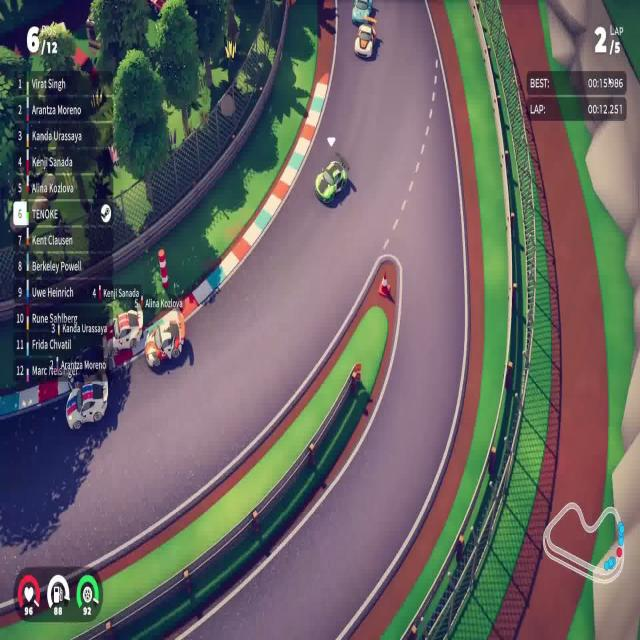car: (100, 300, 144, 363), (64, 370, 109, 431), (144, 308, 186, 370), (314, 158, 348, 206), (354, 22, 376, 59)
